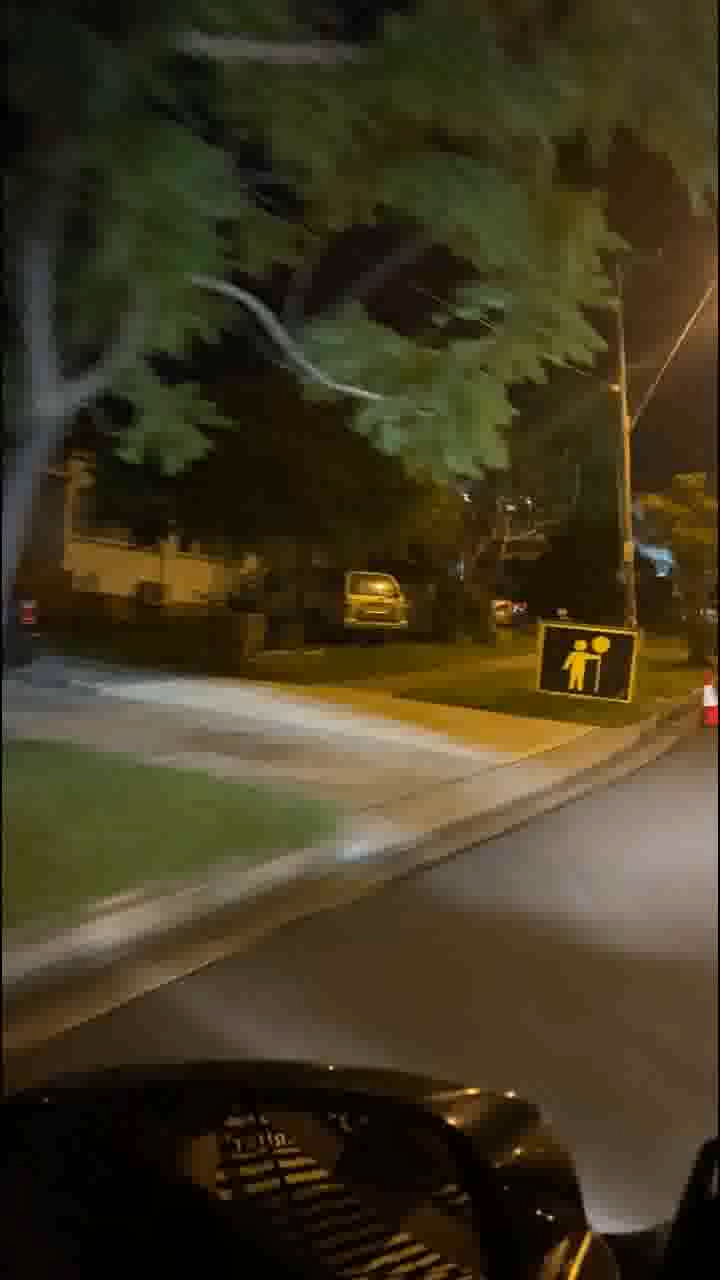prepare to stop board: (541, 626, 630, 691)
